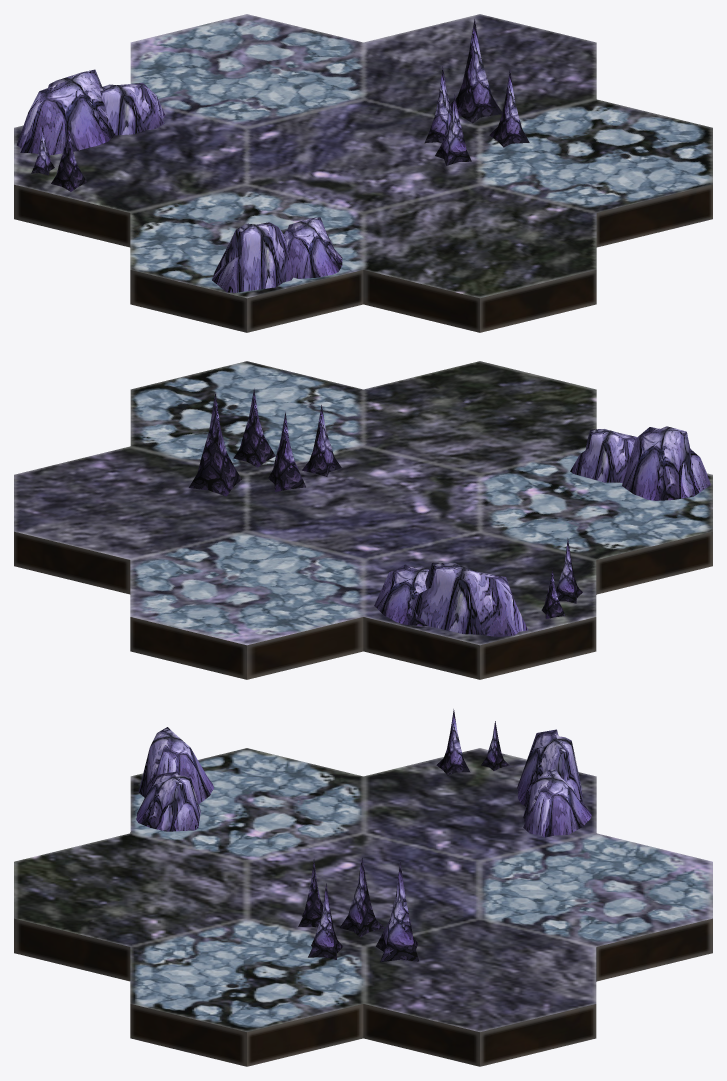
The model's file is Tile_Underworld1.fbx.
The picture shows the model from 3 angles, top to bottom: view 1: azimuth 30°, elevation 25°; view 2: azimuth 150°, elevation 25°; view 3: azimuth 270°, elevation 25°; orthographic projection.
Parts seen in each view (by area): view 1: Tile1, Mountain2, Mountain4, Mountain1, Mountain3, pCylinder15, pCylinder14, pCylinder16, pCylinder12, pCylinder11; view 2: Tile1, Mountain2, Mountain4, Mountain3, Mountain1, pCylinder15, pCylinder14, pCylinder11, pCylinder16, pCylinder12, pCylinder13; view 3: Tile1, Mountain1, Mountain3, Mountain4, Mountain2, pCylinder15, pCylinder11, pCylinder14, pCylinder12, pCylinder16.
Boxes of the visible parts, <box> form: Tile1: <box>14,14,712,332</box>; Mountain2: <box>17,69,115,155</box>; Mountain4: <box>212,222,293,292</box>; Mountain1: <box>100,83,165,135</box>; Mountain3: <box>284,217,342,278</box>; pCylinder15: <box>450,19,502,123</box>; pCylinder14: <box>489,69,529,147</box>; pCylinder16: <box>435,94,471,165</box>; pCylinder12: <box>51,125,87,191</box>; pCylinder11: <box>424,66,452,143</box>; Tile1: <box>14,361,712,679</box>; Mountain2: <box>410,562,527,636</box>; Mountain4: <box>622,426,710,500</box>; Mountain3: <box>570,429,636,483</box>; Mountain1: <box>374,564,429,626</box>; pCylinder15: <box>189,392,241,496</box>; pCylinder14: <box>233,388,275,467</box>; pCylinder11: <box>268,412,305,491</box>; pCylinder16: <box>302,405,341,476</box>; pCylinder12: <box>556,538,582,603</box>; pCylinder13: <box>541,568,565,618</box>; Tile1: <box>14,748,712,1066</box>; Mountain1: <box>523,769,591,837</box>; Mountain3: <box>136,771,200,831</box>; Mountain4: <box>139,727,213,803</box>; Mountain2: <box>517,729,582,806</box>; pCylinder15: <box>376,861,419,962</box>; pCylinder11: <box>339,857,384,937</box>; pCylinder14: <box>308,883,343,959</box>; pCylinder12: <box>436,709,470,775</box>; pCylinder16: <box>298,859,323,927</box>.
Size of the model in its own units: 128 by 26.81 by 133.
Materials: 2 (2 with a texture image).
